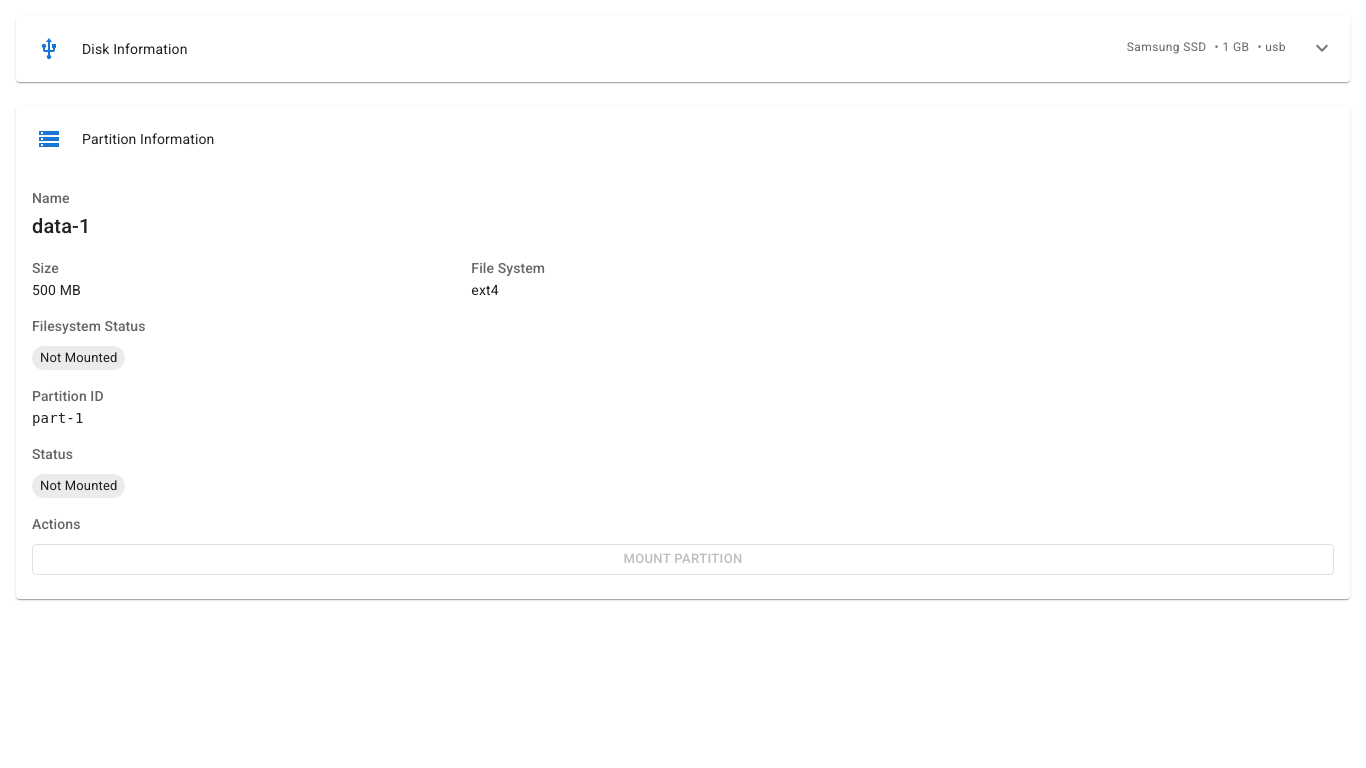
it: VolumeDetailsPanel › disables partition actions in read-only mode and shows tooltip
The width and height of the screenshot is (1366, 768).
Step 1. Hover over the button "Mount Partition" → x=683, y=559, box [32, 544, 1334, 575]
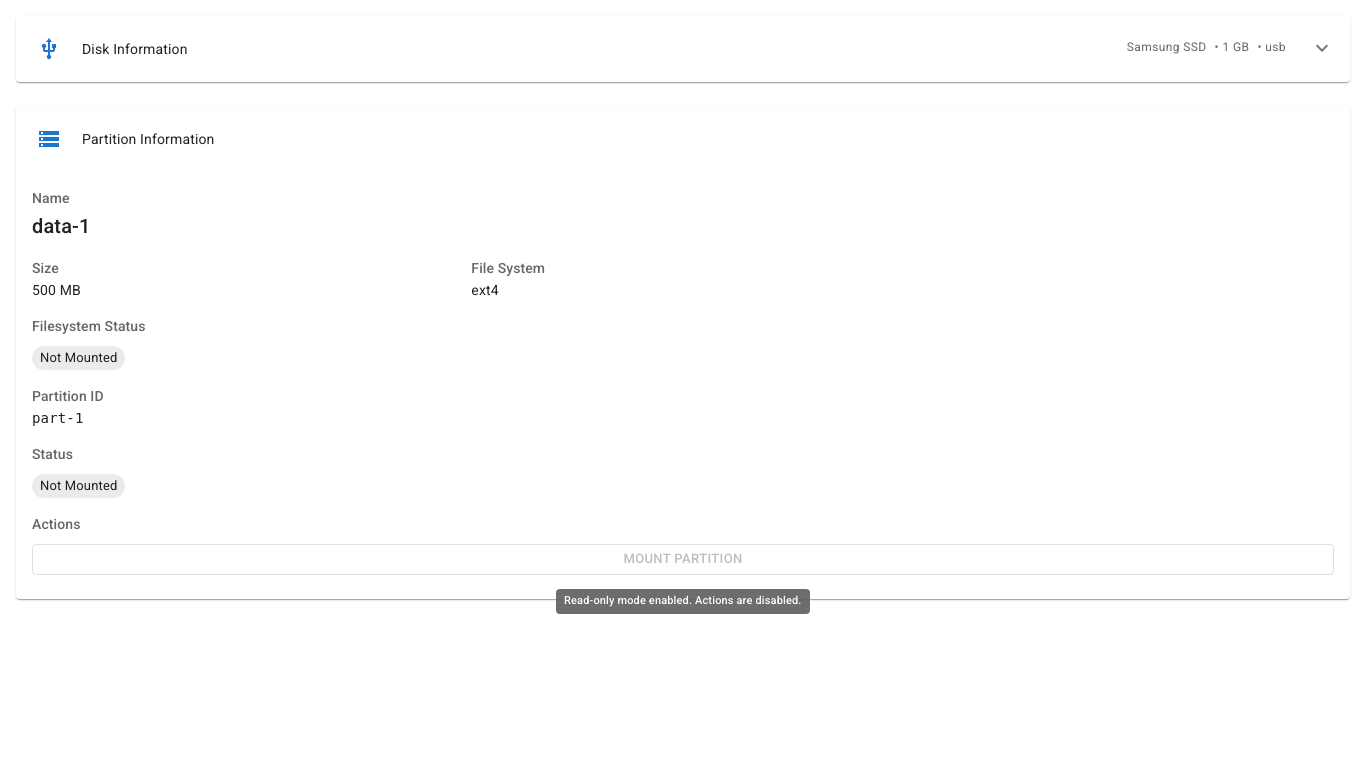
Expected: the text "Read-only mode enabled. Actions are disabled." is shown, [556, 589, 810, 614]
